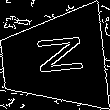N_W: (24, 37, 82, 83)
